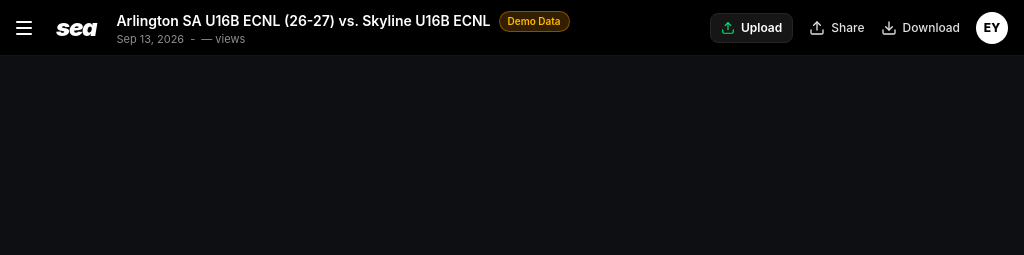
it: Header component › opens download menu and renders full match video, zip, json, and csv options
Click the button with aria-label "download match media".
click(920, 28)  # box [880,20,960,36]
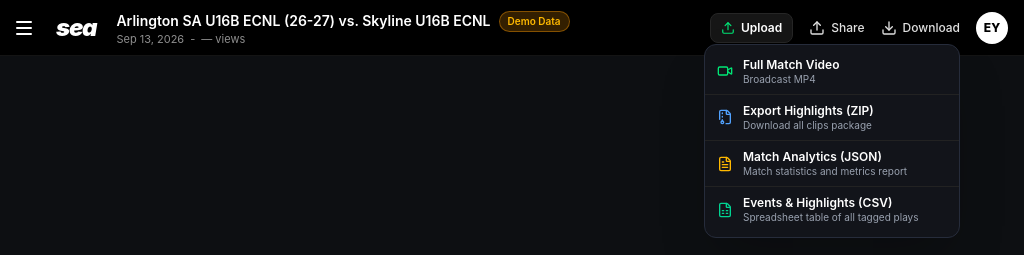
Result: the text "Full Match Video" is shown at [743,56,840,72]
Result: the text "Export Highlights (ZIP)" is shown at [743,103,874,119]
Result: the text "Match Analytics (JSON)" is shown at [743,149,882,164]
